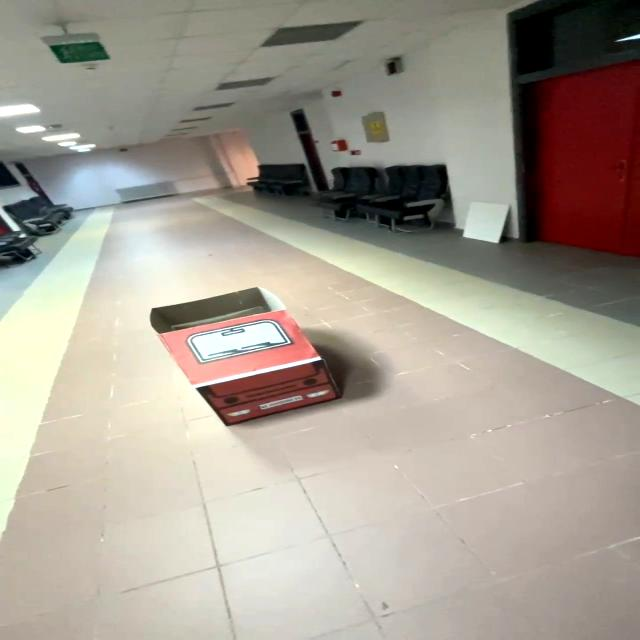red_car: (112, 274, 374, 446)
